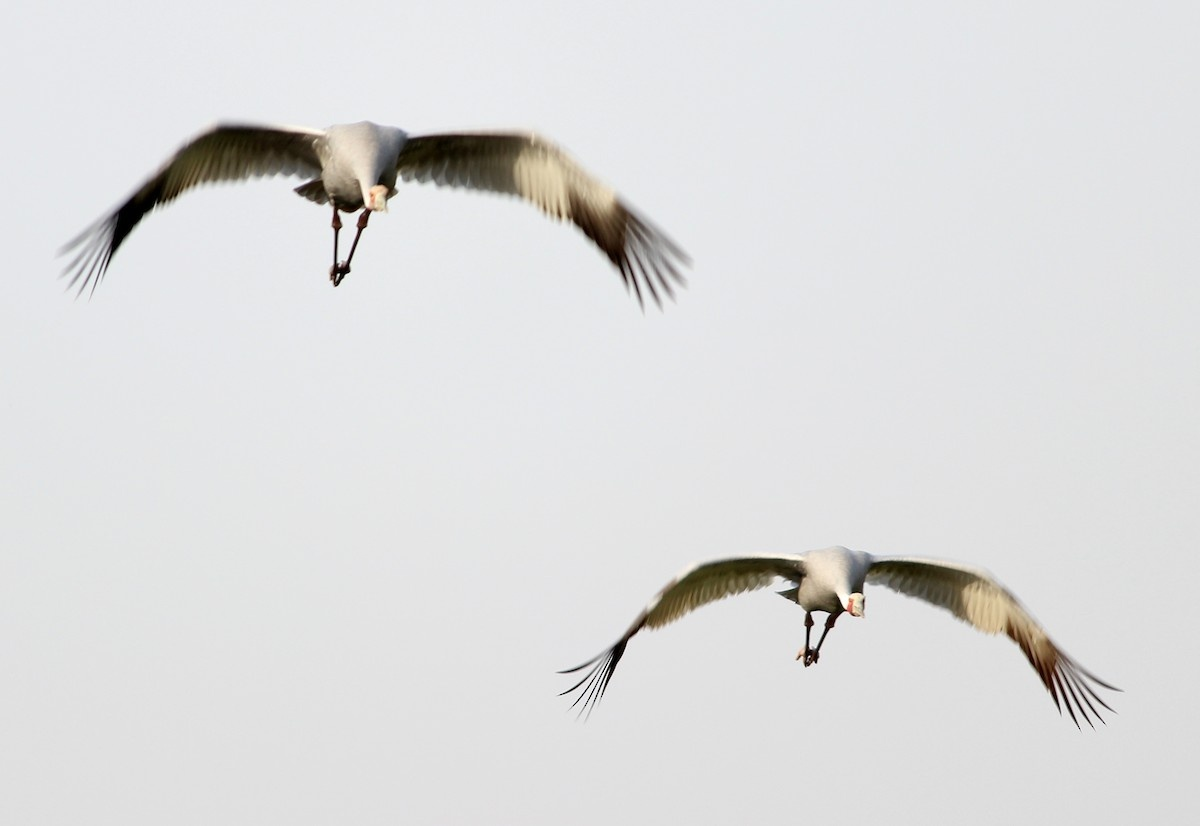crane: (54, 89, 749, 387), (534, 519, 1145, 757)
